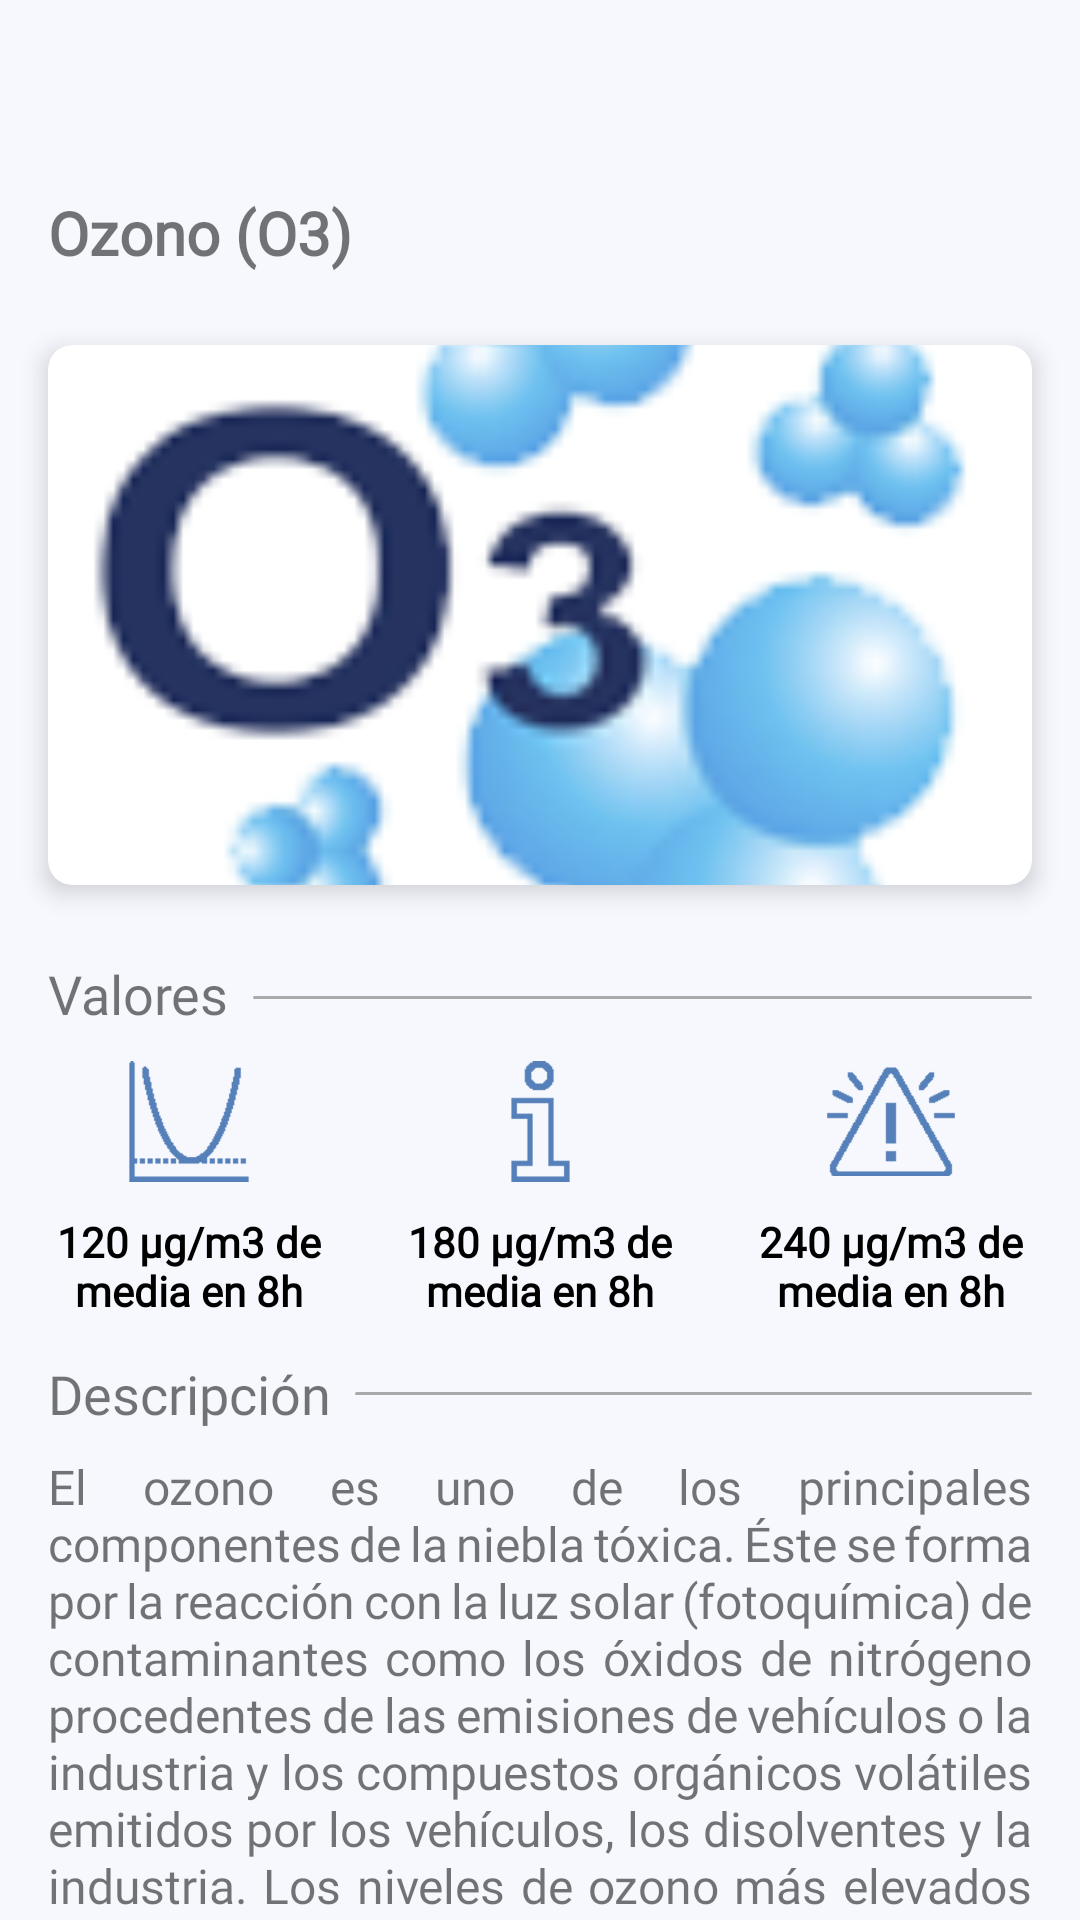

Screen size 1080 x 1920. Icon name, then its box in pixels as [left=x1, top=y1, right=x2, bottom=y2]:
alert: [left=827, top=1067, right=955, bottom=1176]
info: [left=511, top=1061, right=570, bottom=1182]
